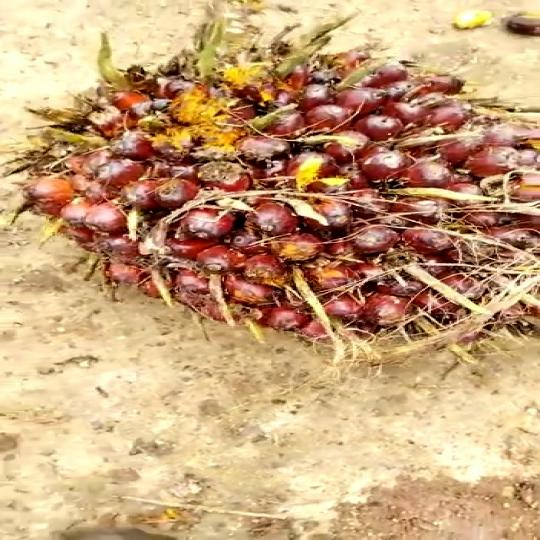masak: (22, 29, 540, 365)
